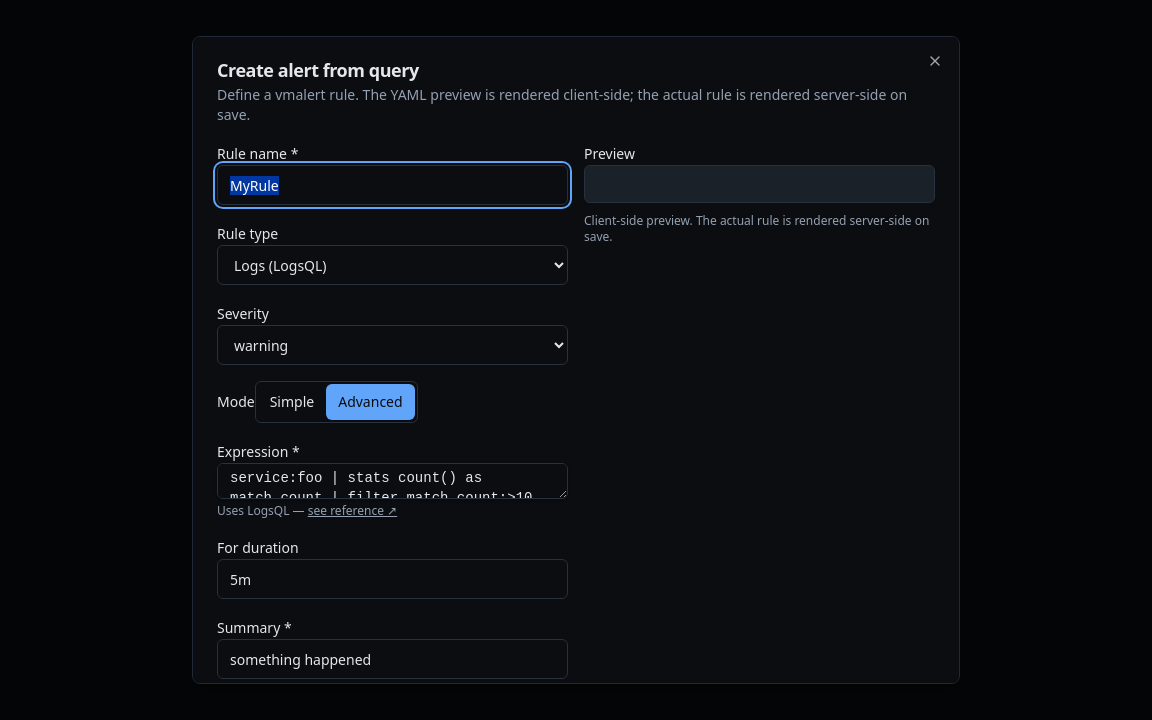
Test: CreateAlertModal › shows inline uniqueness error when the name matches an existing rule
This screenshot has width=1152, height=720.
Replace the text in the field with test id "create-alert-name" with "Taken" at (392, 185), box [217,165,568,205]
Wait 350 ms
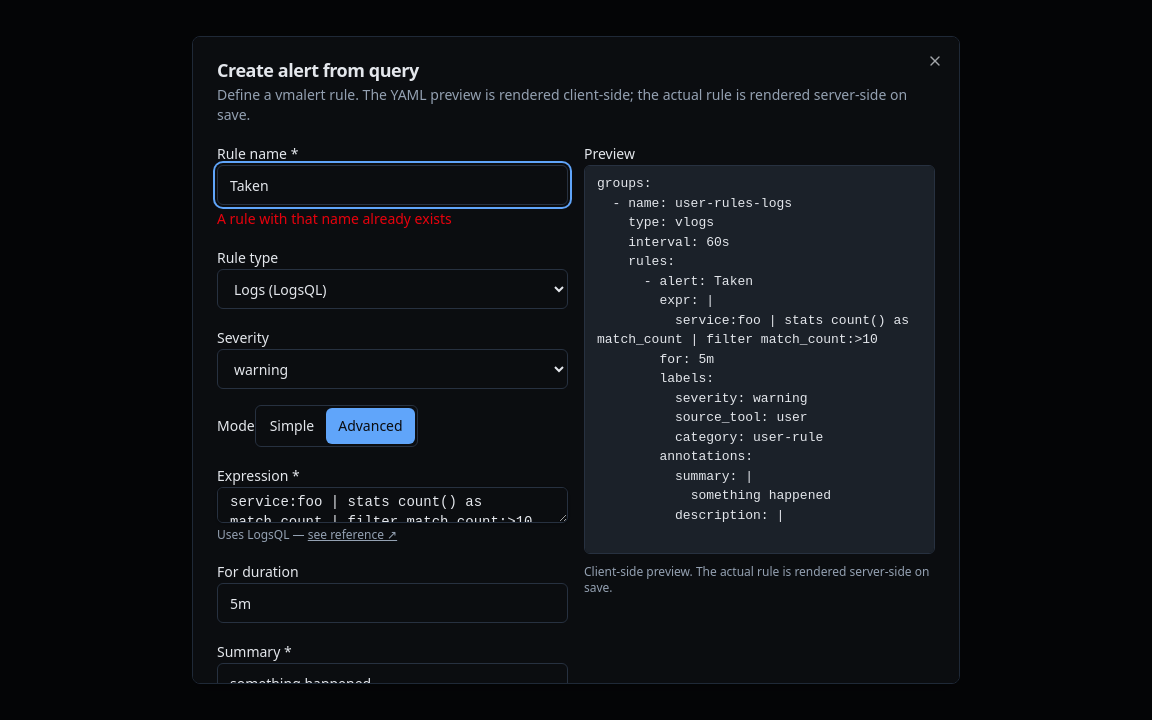
Result: the message with test id "create-alert-name-conflict" reads "A rule with that name already exists" at [217,209,452,228]
